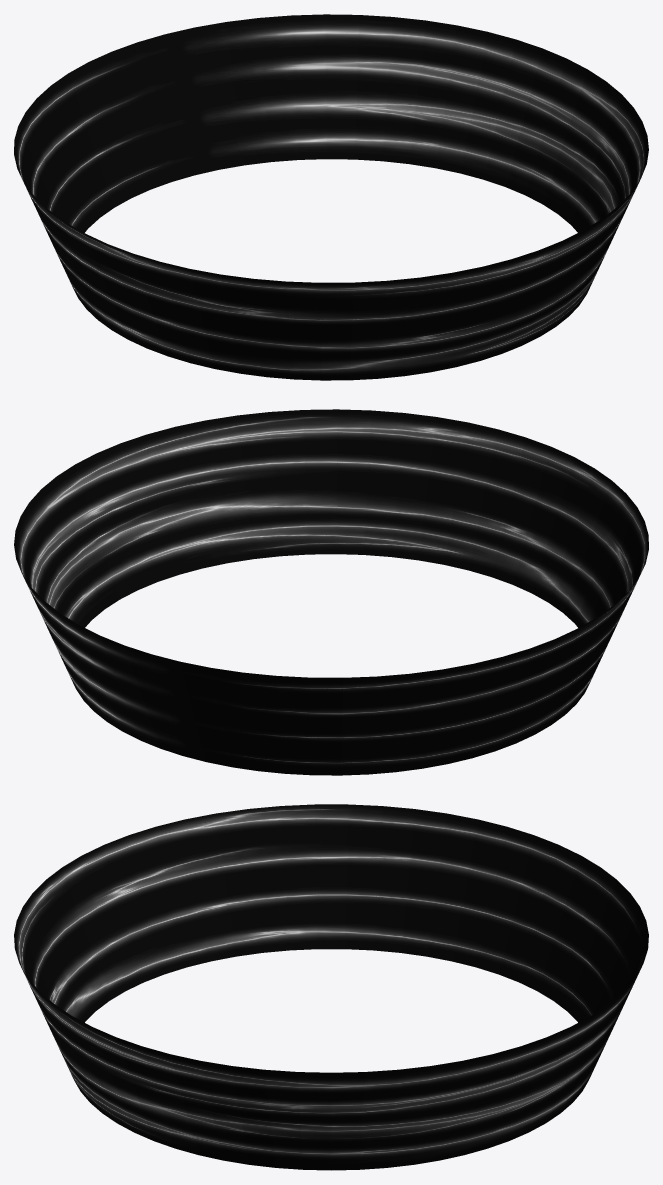
The model's file is 0119_QUAN.glb.
3 views of the same model, one above another, from view 1: azimuth 30°, elevation 25°; view 2: azimuth 150°, elevation 25°; view 3: azimuth 270°, elevation 25° (orthographic).
Bounding box in the file's own units: 2.2 × 0.4634 × 2.2.
1 material, 1 textured.
